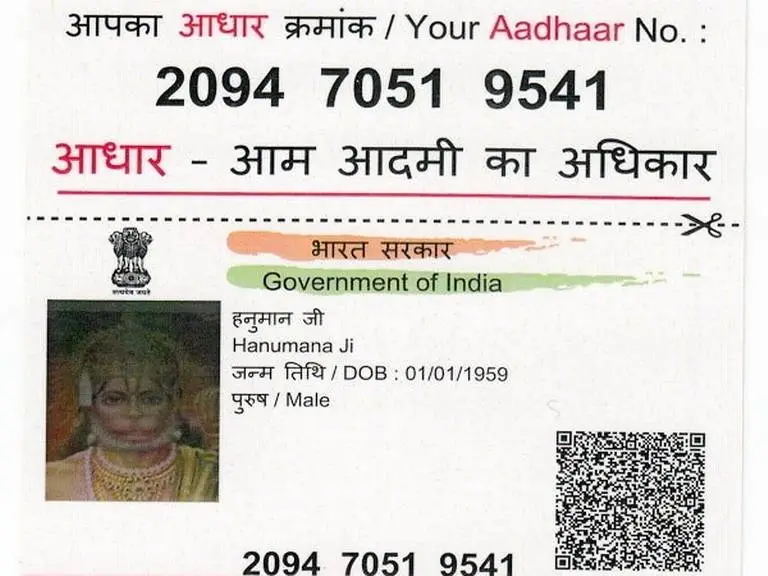aadhaar: (3, 2, 759, 576)
